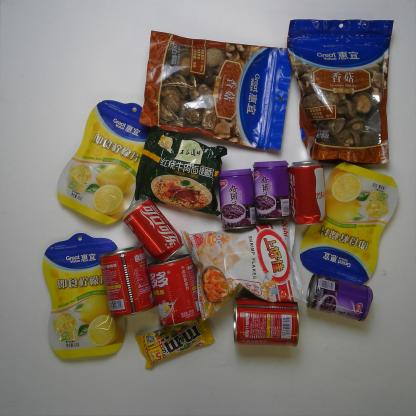Canned Food: (147, 253, 204, 328), (99, 244, 156, 318), (232, 296, 301, 349), (306, 273, 374, 323), (218, 168, 256, 232), (254, 160, 293, 221)
Chocolate: (134, 314, 216, 371)
Dried Food: (138, 30, 294, 153), (286, 18, 394, 168)
Dried Fruit: (300, 160, 402, 286), (55, 100, 151, 226), (42, 232, 127, 359)
Drink: (122, 198, 185, 263), (288, 158, 328, 227)
Instant Noodles: (134, 123, 228, 217)
Puffed Food: (180, 218, 310, 322)
